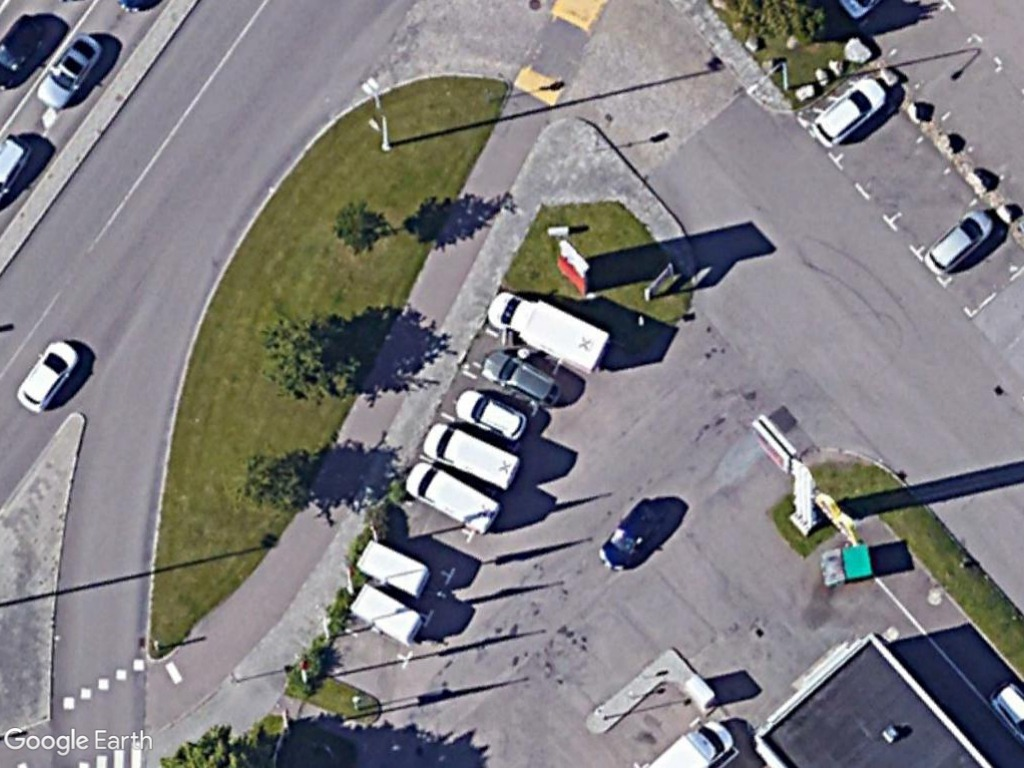car: (807, 71, 888, 153), (32, 27, 106, 115), (13, 330, 87, 418), (921, 205, 999, 279), (598, 496, 671, 574), (476, 344, 561, 409), (450, 384, 532, 444)
van: (484, 288, 615, 384), (418, 416, 532, 496), (401, 457, 506, 538)
